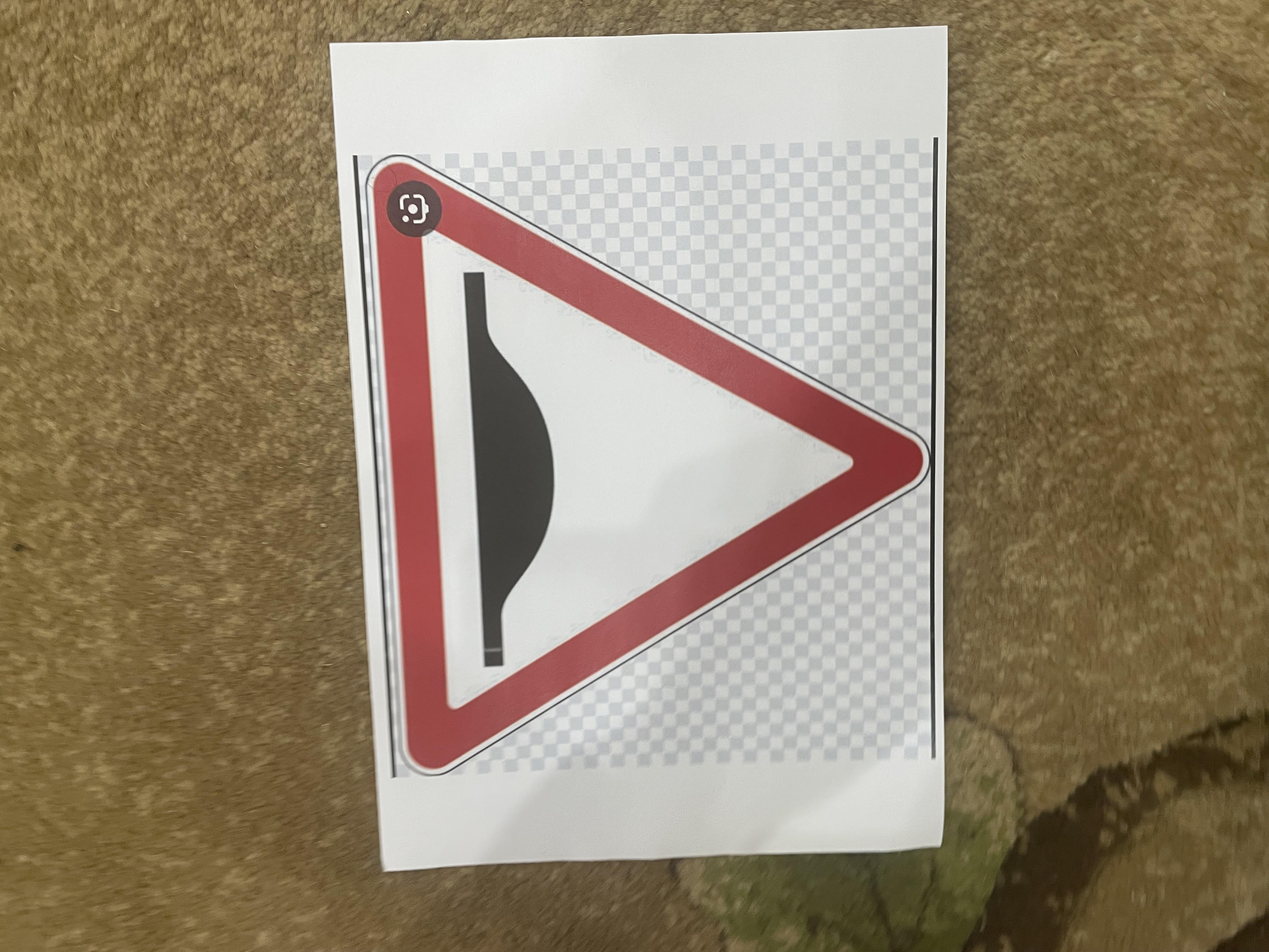Hump: (200, 253, 1042, 679)
